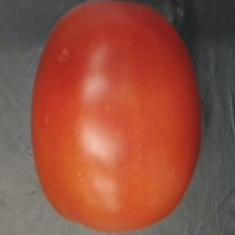unripe: (24, 0, 215, 235)
